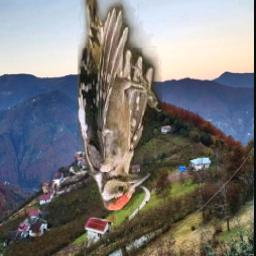Woodpecker: (78, 0, 162, 211)
